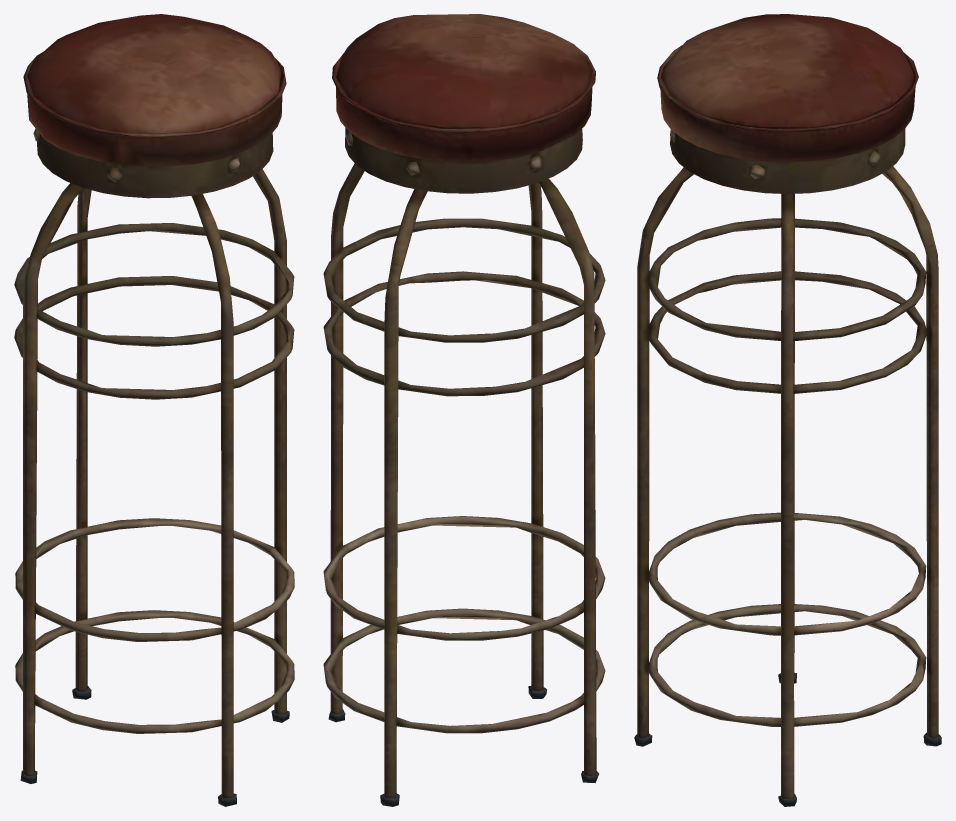
The model's file is metal_stool_01.glb.
3 renders of one model, left to right at view 1: azimuth 30°, elevation 25°; view 2: azimuth 150°, elevation 25°; view 3: azimuth 270°, elevation 25°, orthographic.
Visible parts, largest first — view 1: metal_stool_01; view 2: metal_stool_01; view 3: metal_stool_01.
Part boxes in pixels (x1,y1,x2,y2): metal_stool_01: [14, 14, 294, 806]; metal_stool_01: [323, 14, 605, 806]; metal_stool_01: [634, 14, 941, 806].
Size of the model in its own units: 0.3505 by 0.8822 by 0.353.
1 material, 1 textured.
